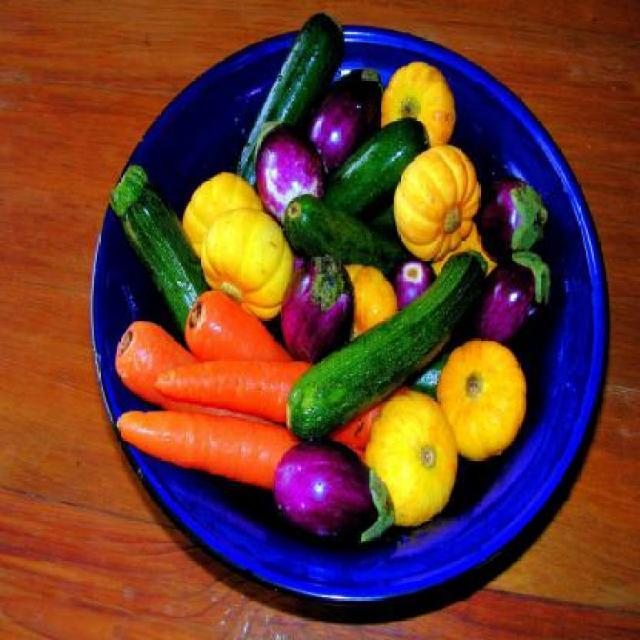Zucchini: (282, 247, 487, 444), (234, 11, 346, 202), (110, 160, 204, 342), (318, 115, 434, 222), (285, 194, 403, 272)
